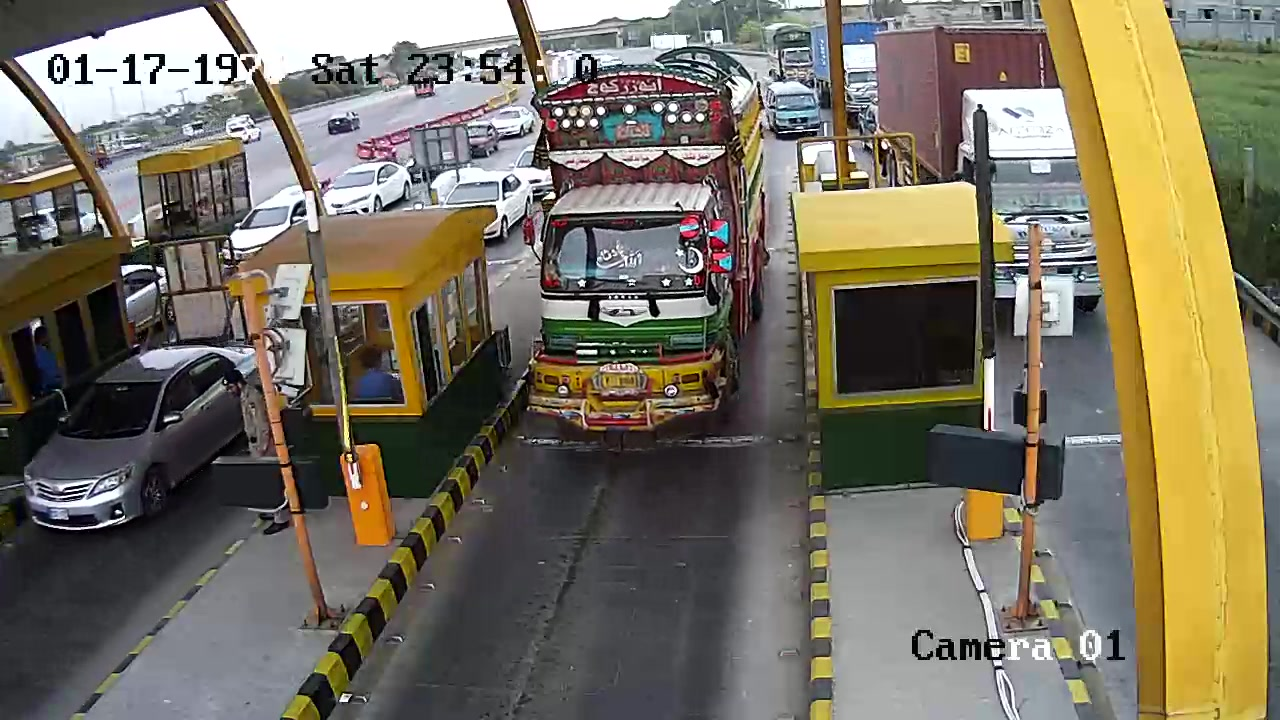F5: (517, 40, 784, 443)
